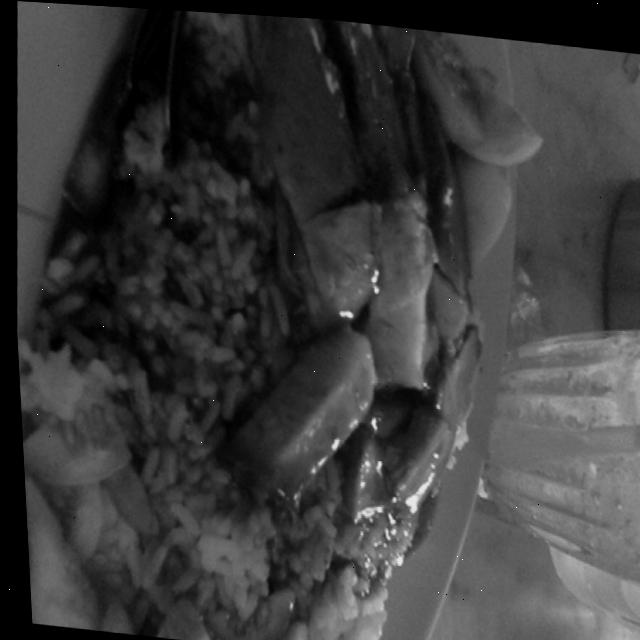猪肉菜式: (0, 0, 580, 640)
